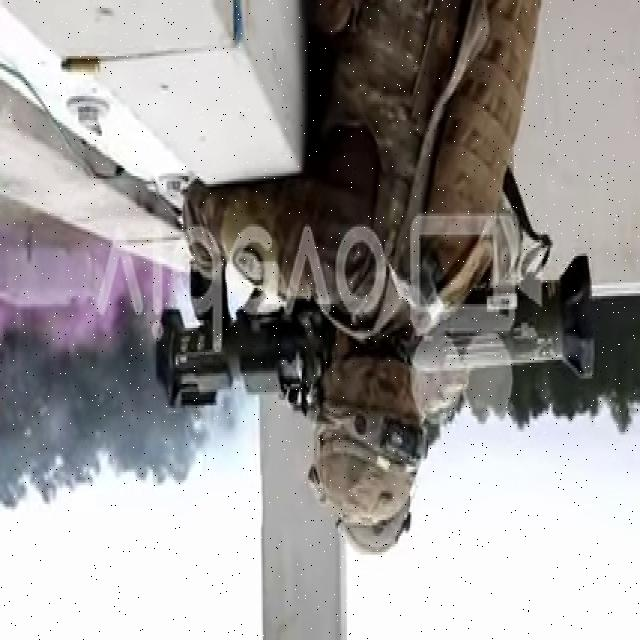bazooka: (157, 235, 604, 433)
